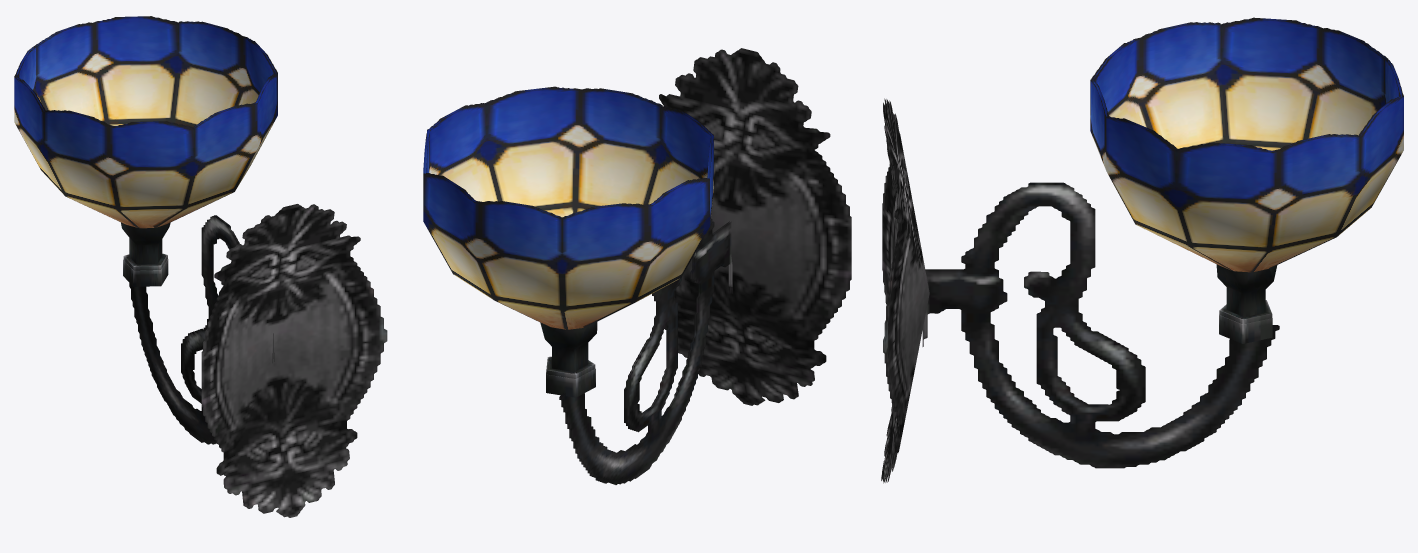
File: furni_0200077_02.FBX
3 renders of one model, left to right at view 1: azimuth 30°, elevation 25°; view 2: azimuth 150°, elevation 25°; view 3: azimuth 270°, elevation 25°, orthographic. The views are drawn at different scales.
Visible parts, largest first — view 1: furni_0200077; view 2: furni_0200077; view 3: furni_0200077.
Part boxes in pixels (x1=…): furni_0200077: x1=14, y1=16, x2=387, y2=517; furni_0200077: x1=423, y1=48, x2=851, y2=484; furni_0200077: x1=881, y1=17, x2=1403, y2=483.
Bounding box in the file's own units: 25.88 × 36.81 × 43.35.
Materials: 1 (1 with a texture image).
